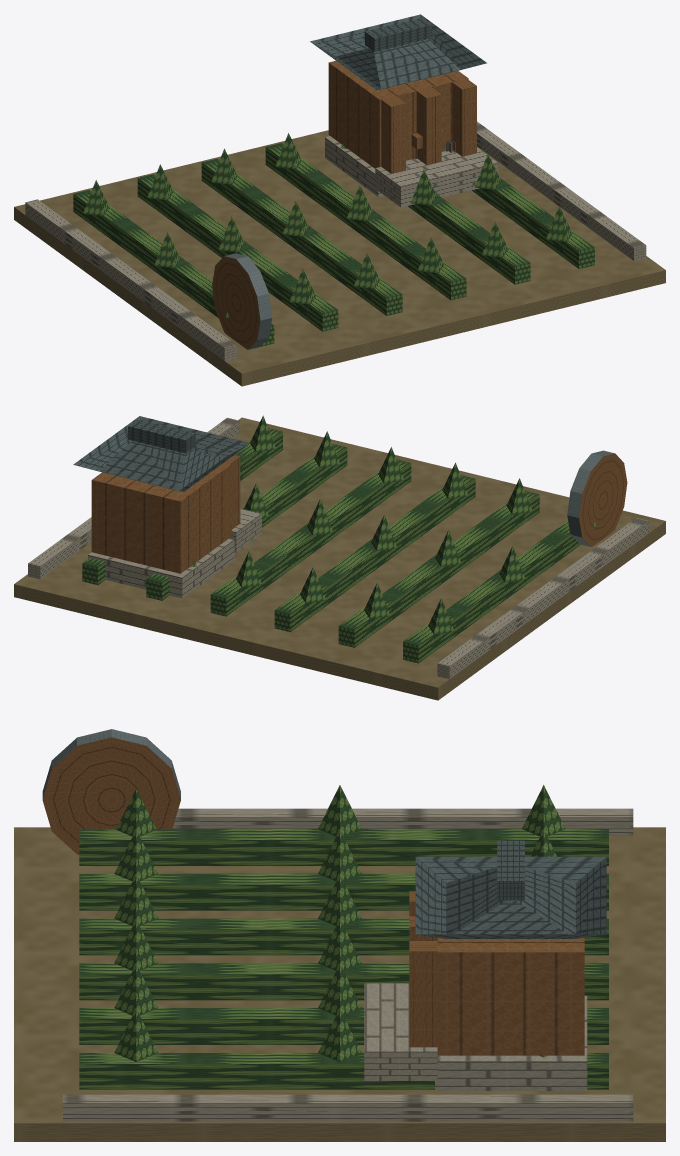
The model's file is domestic-FARM-3-lod0.glb.
The picture shows the model from 3 angles, top to bottom: view 1: azimuth 30°, elevation 25°; view 2: azimuth 150°, elevation 25°; view 3: azimuth 270°, elevation 25°; orthographic projection. The views are drawn at different scales.
Size of the model in its own units: 0.86 by 0.292 by 0.8.
Materials: 1 (1 with a texture image).
